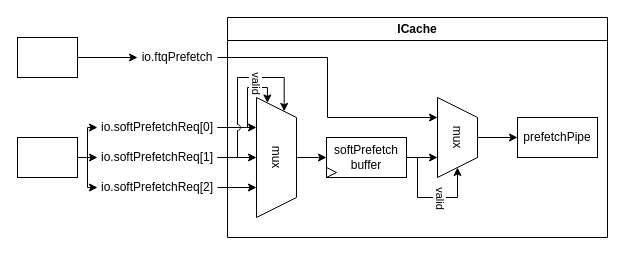
Some shapes in this 625 by 255 pixel diagram are drawn without their labels. Here are the shapes that lost their labels. From the top down, the centre of each, then its label:
At point 47,57: "Ftq".
At point 47,157: "MemBlock".
